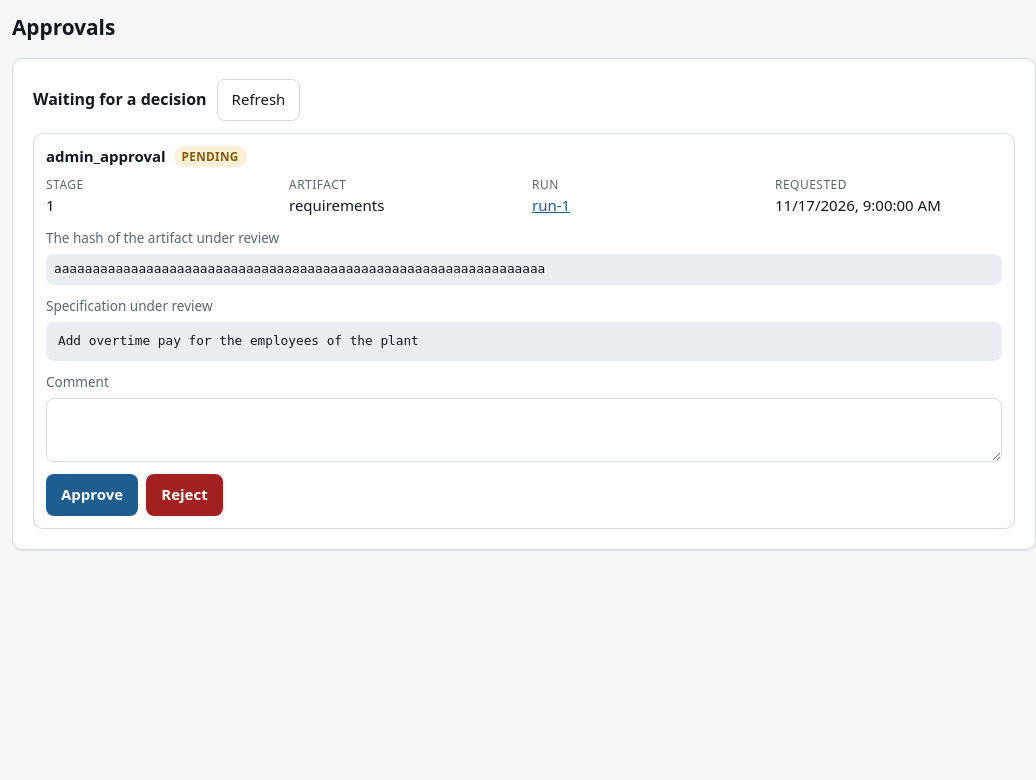
Test: the approvals › refuses the decision when the artifact changed in the meantime
The image size is (1036, 780).
Click the button "Approve" at (92, 495), box [46,474,138,516]
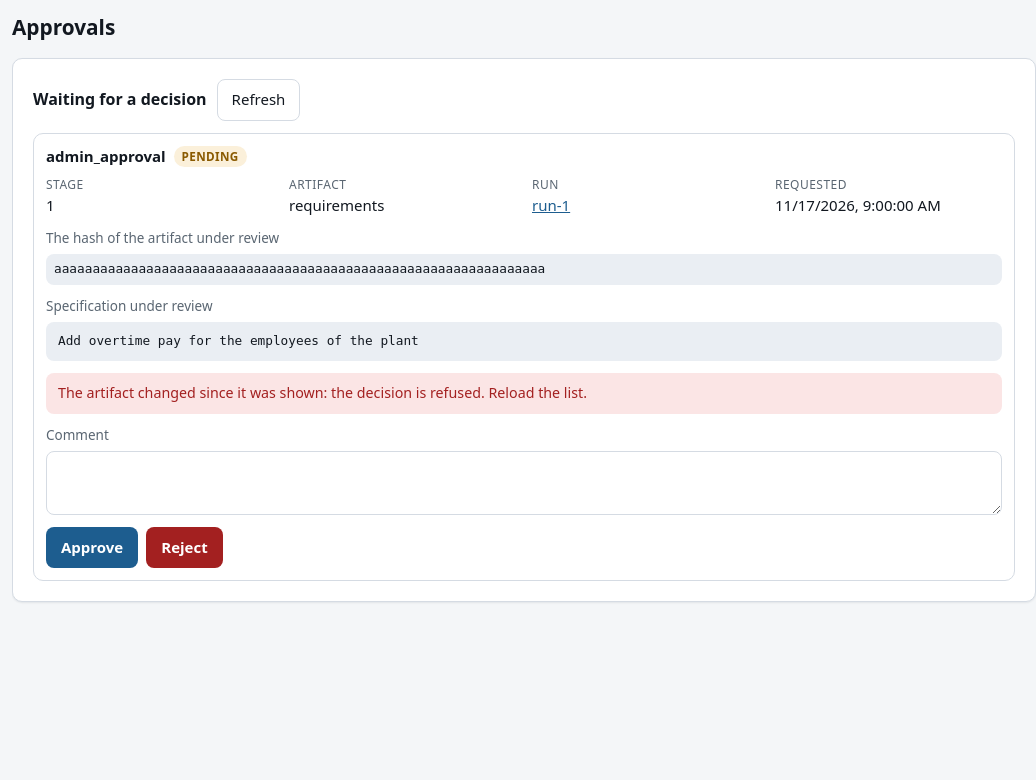
Expected: the text "artifact changed since it was shown" is shown, [58,383,587,402]
